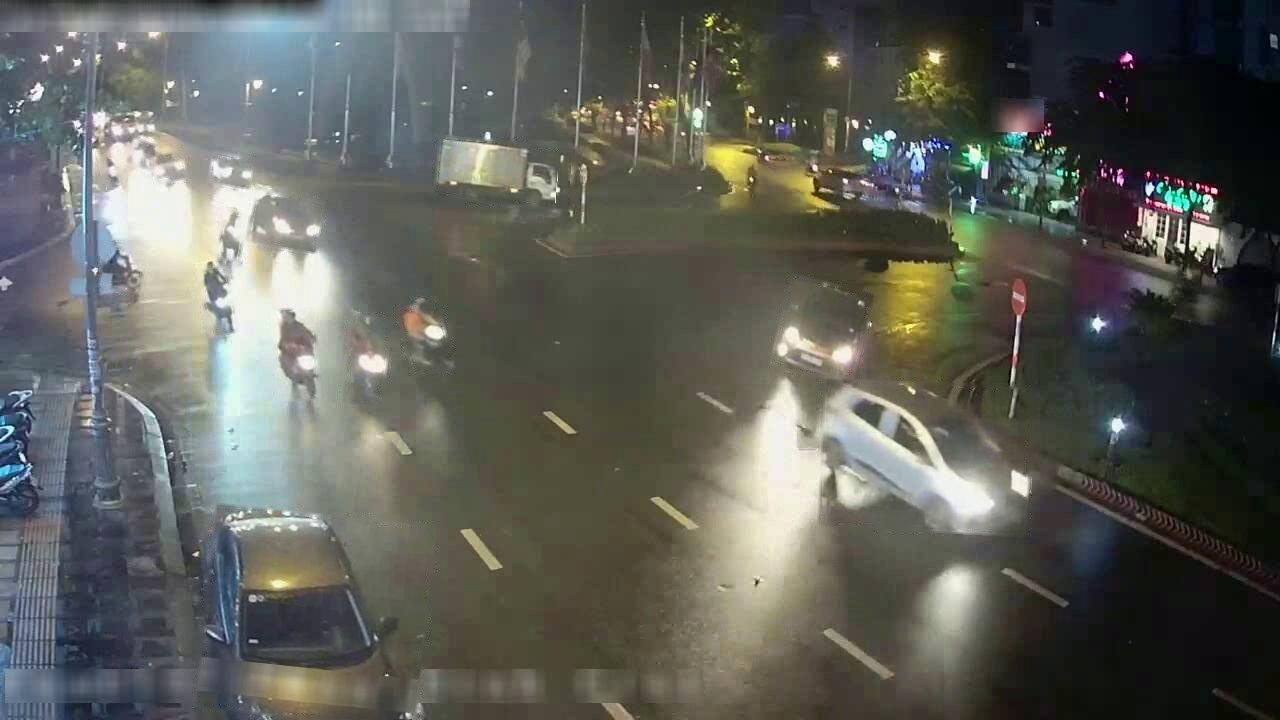Car: (201, 508, 394, 719), (815, 383, 1031, 533), (774, 284, 871, 381), (248, 193, 321, 250), (706, 142, 758, 189), (209, 153, 254, 186), (152, 151, 185, 183), (131, 139, 157, 168)
Motorcycle: (0, 446, 39, 516), (351, 340, 388, 400), (0, 408, 33, 461), (0, 388, 34, 436)
Motorcyclist: (401, 297, 452, 369), (277, 308, 317, 399), (203, 261, 234, 332), (101, 248, 142, 289), (220, 210, 243, 261), (104, 157, 120, 190)
Pedestrian: (278, 308, 315, 353)
Sign: (1010, 278, 1027, 316)
Truck: (435, 137, 527, 201)
